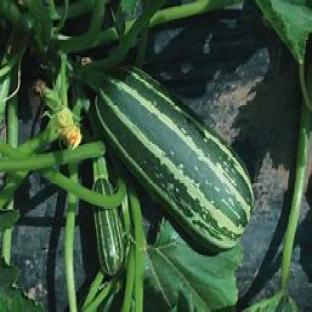Zucchini: (96, 68, 252, 251), (94, 207, 126, 275)
